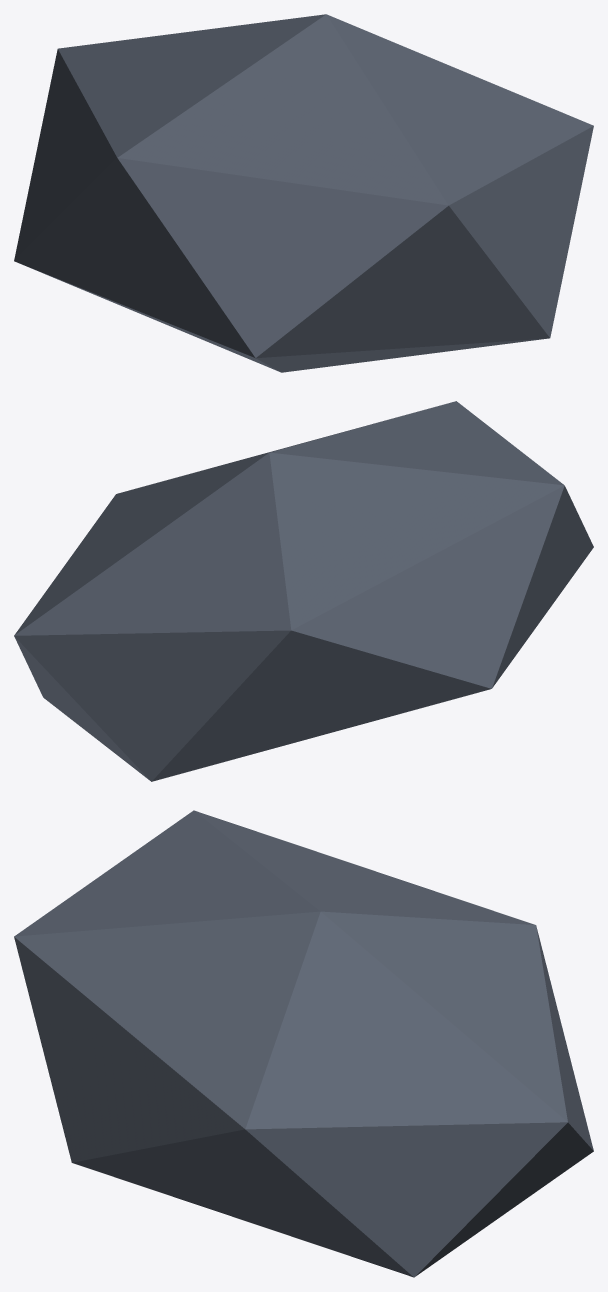
File: EXT_SouthCliff_02_Shard_1.glb
The picture shows the model from 3 angles, top to bottom: view 1: azimuth 30°, elevation 25°; view 2: azimuth 150°, elevation 25°; view 3: azimuth 270°, elevation 25°; orthographic projection. The views are drawn at different scales.
Visible parts, largest first — view 1: EXT_SouthCliff_02_Shard_1; view 2: EXT_SouthCliff_02_Shard_1; view 3: EXT_SouthCliff_02_Shard_1.
Boxes of the visible parts, left/top/right/bottom form: EXT_SouthCliff_02_Shard_1: left=14, top=14, right=593, bottom=372; EXT_SouthCliff_02_Shard_1: left=14, top=401, right=593, bottom=781; EXT_SouthCliff_02_Shard_1: left=14, top=810, right=593, bottom=1277.
Size of the model in its own units: 1.34 by 0.8191 by 1.47.
